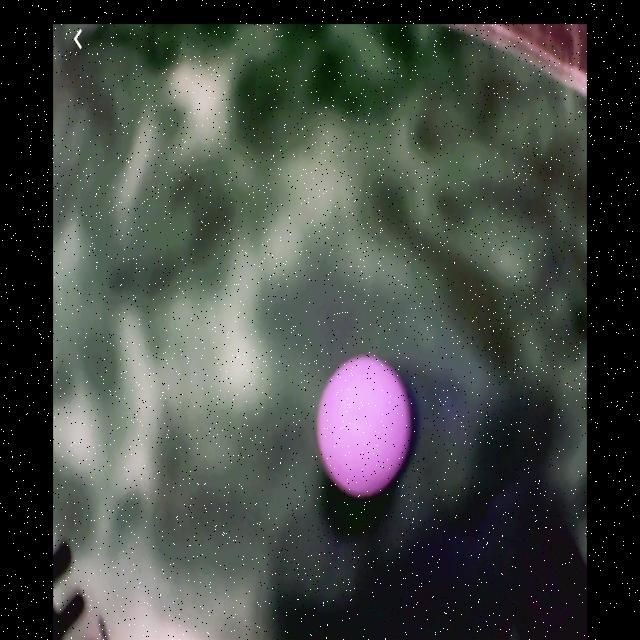ball: (317, 356, 414, 493)
